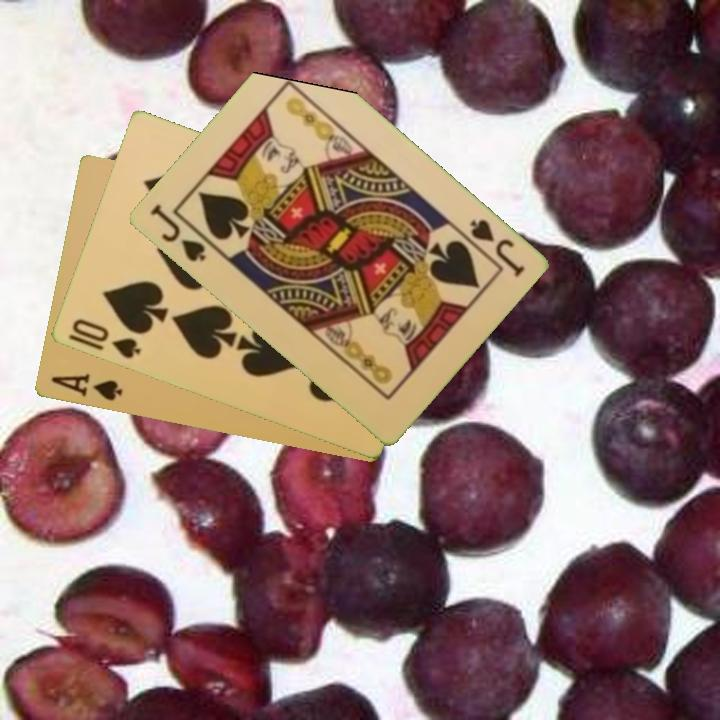10s: (68, 315, 144, 362)
As: (47, 370, 125, 404)
Js: (456, 215, 527, 281), (146, 200, 209, 265)
